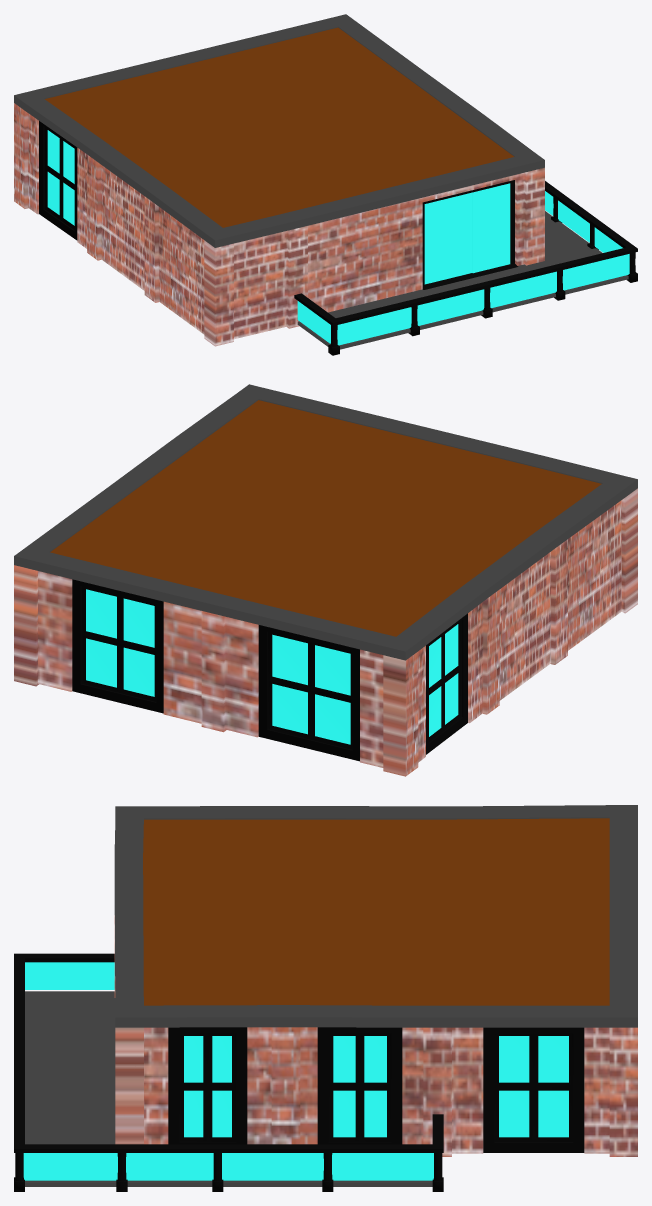
The model's file is crime scene 1 FBX.fbx.
3 renders of one model, top to bottom at view 1: azimuth 30°, elevation 25°; view 2: azimuth 150°, elevation 25°; view 3: azimuth 270°, elevation 25°, orthographic. The views are drawn at different scales.
Parts seen in each view (by area): view 1: Building, Ceiling, Door; view 2: Building, Ceiling; view 3: Building, Ceiling.
Part boxes in pixels (x1,y1,x2,y2): Building: [14, 14, 637, 355]; Ceiling: [45, 27, 513, 227]; Door: [424, 192, 472, 284]; Building: [14, 384, 637, 776]; Ceiling: [50, 400, 601, 636]; Building: [14, 805, 637, 1191]; Ceiling: [143, 818, 609, 1005].
Size of the model in its own units: 26.56 by 7.09 by 28.33.
